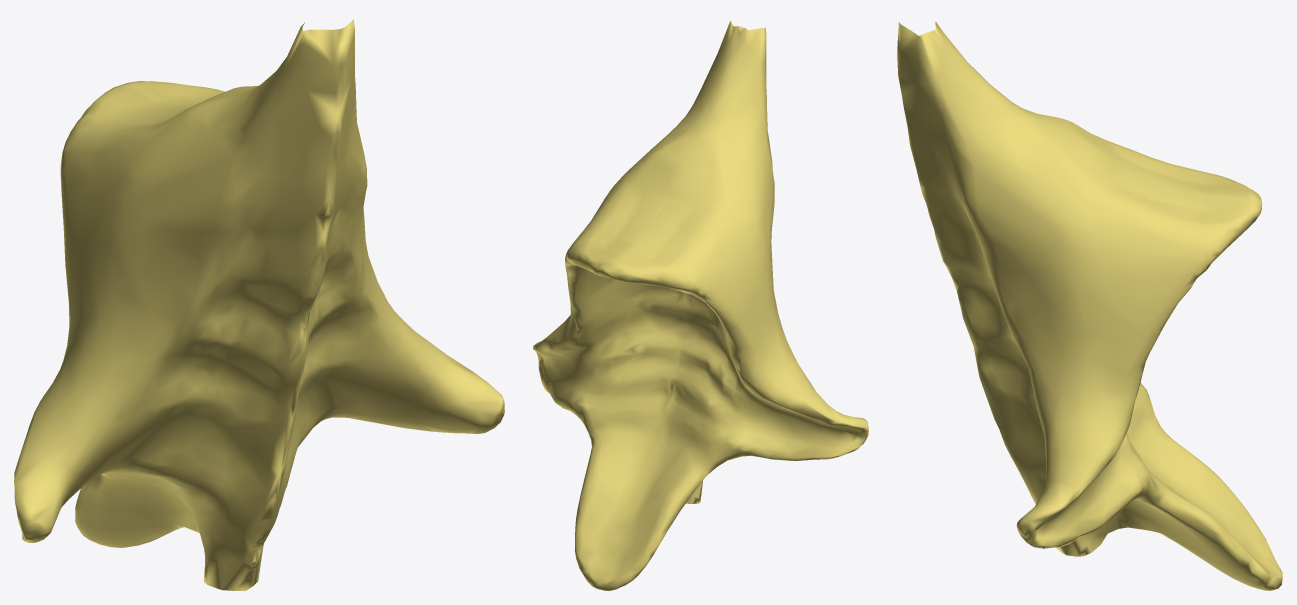
Rendered from fourth-ventricle.glb.
3 renders of one model, left to right at view 1: azimuth 30°, elevation 25°; view 2: azimuth 150°, elevation 25°; view 3: azimuth 270°, elevation 25°, orthographic. The views are drawn at different scales.
Visible parts, largest first — view 1: Fourth ventricle; view 2: Fourth ventricle; view 3: Fourth ventricle.
Boxes of the visible parts, left/top/right/bottom form: Fourth ventricle: left=14, top=19, right=504, bottom=590; Fourth ventricle: left=533, top=20, right=868, bottom=590; Fourth ventricle: left=897, top=21, right=1282, bottom=590.
Size of the model in its own units: 0.0274 by 0.0366 by 0.0227.
